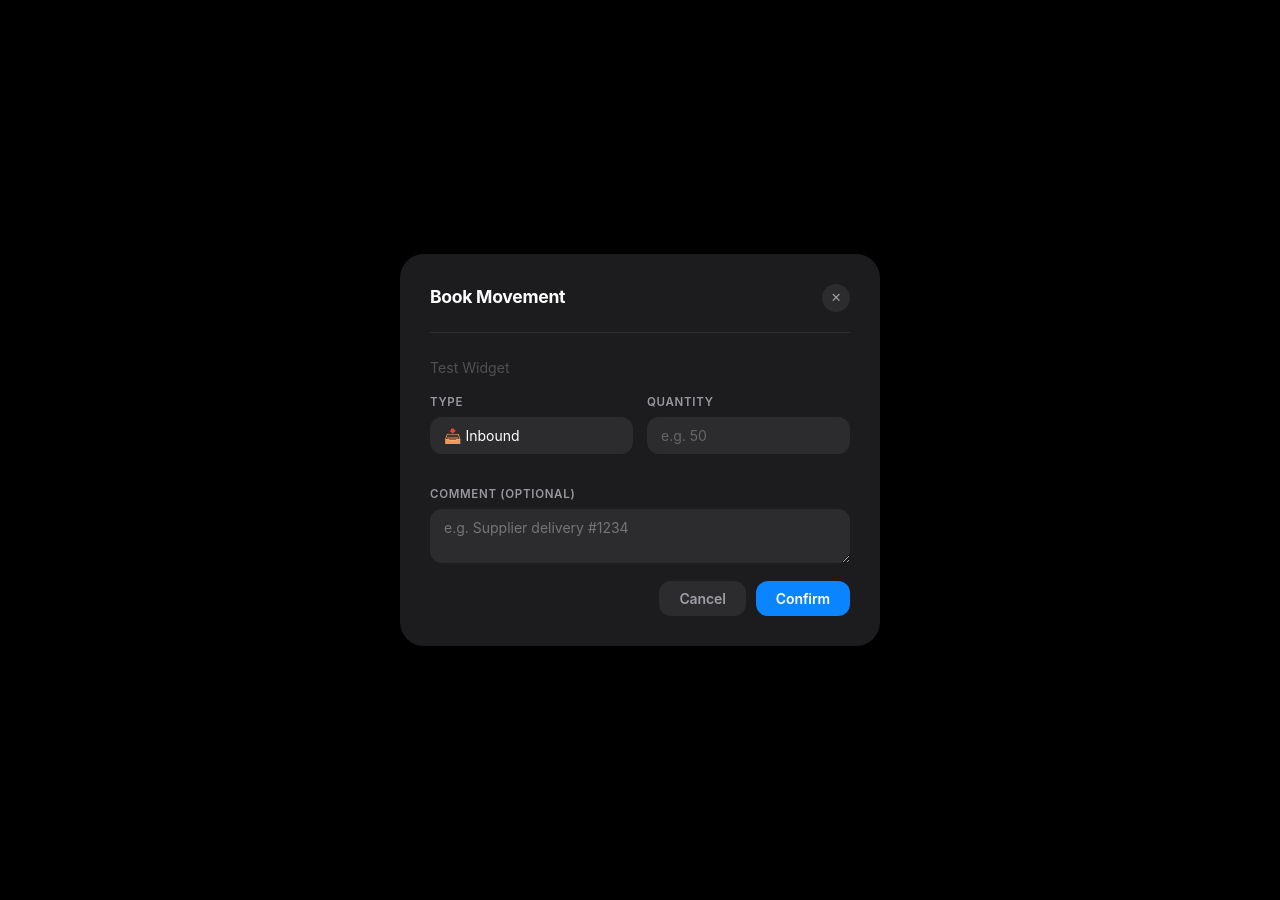
Test: StockMovementModal › shows error message on API failure
This screenshot has width=1280, height=900.
Type "999" into the number field with placeholder "e.g. 50" at (748, 436), box [647,417,850,454]
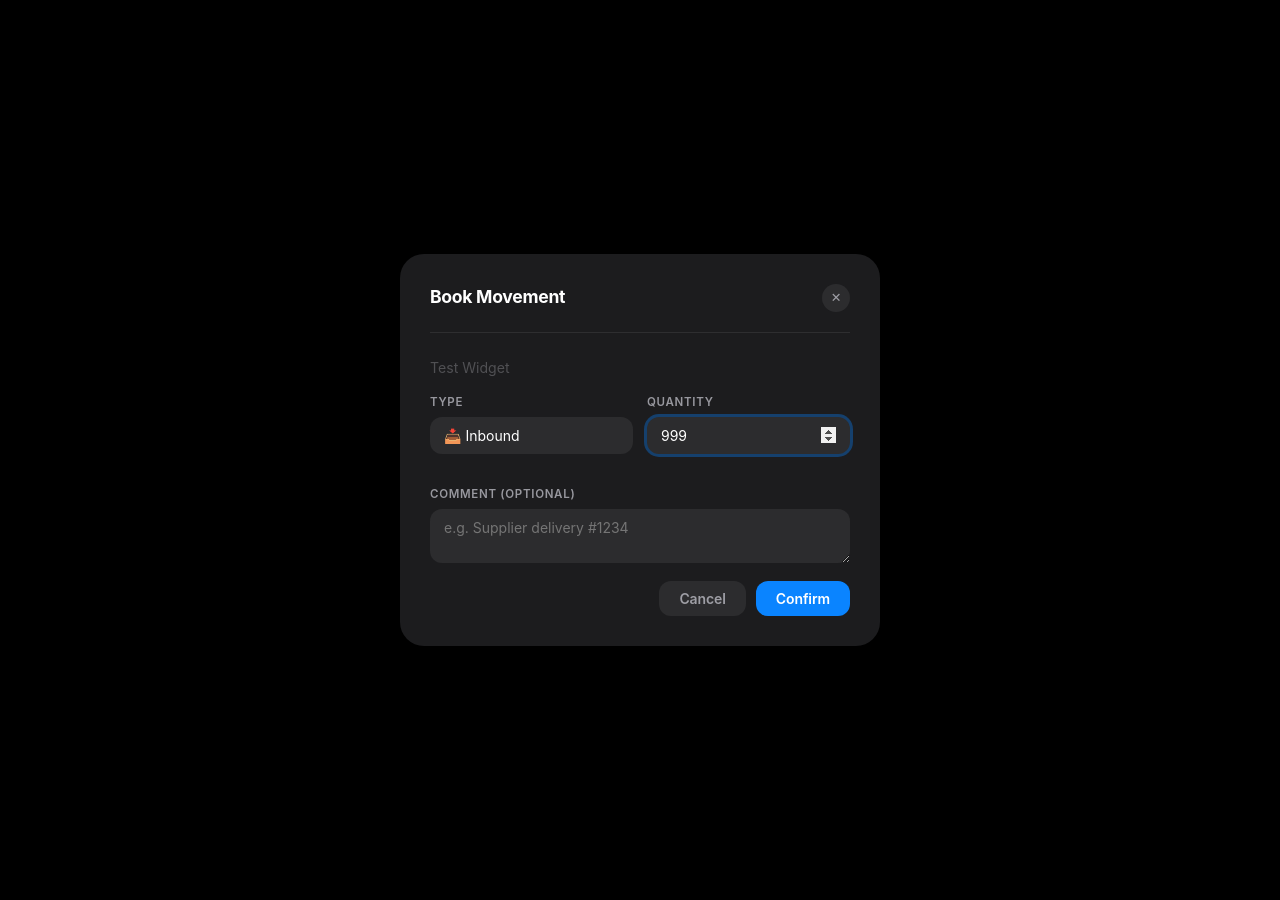
Click the button "Confirm" at (803, 599), box [756,581,850,616]
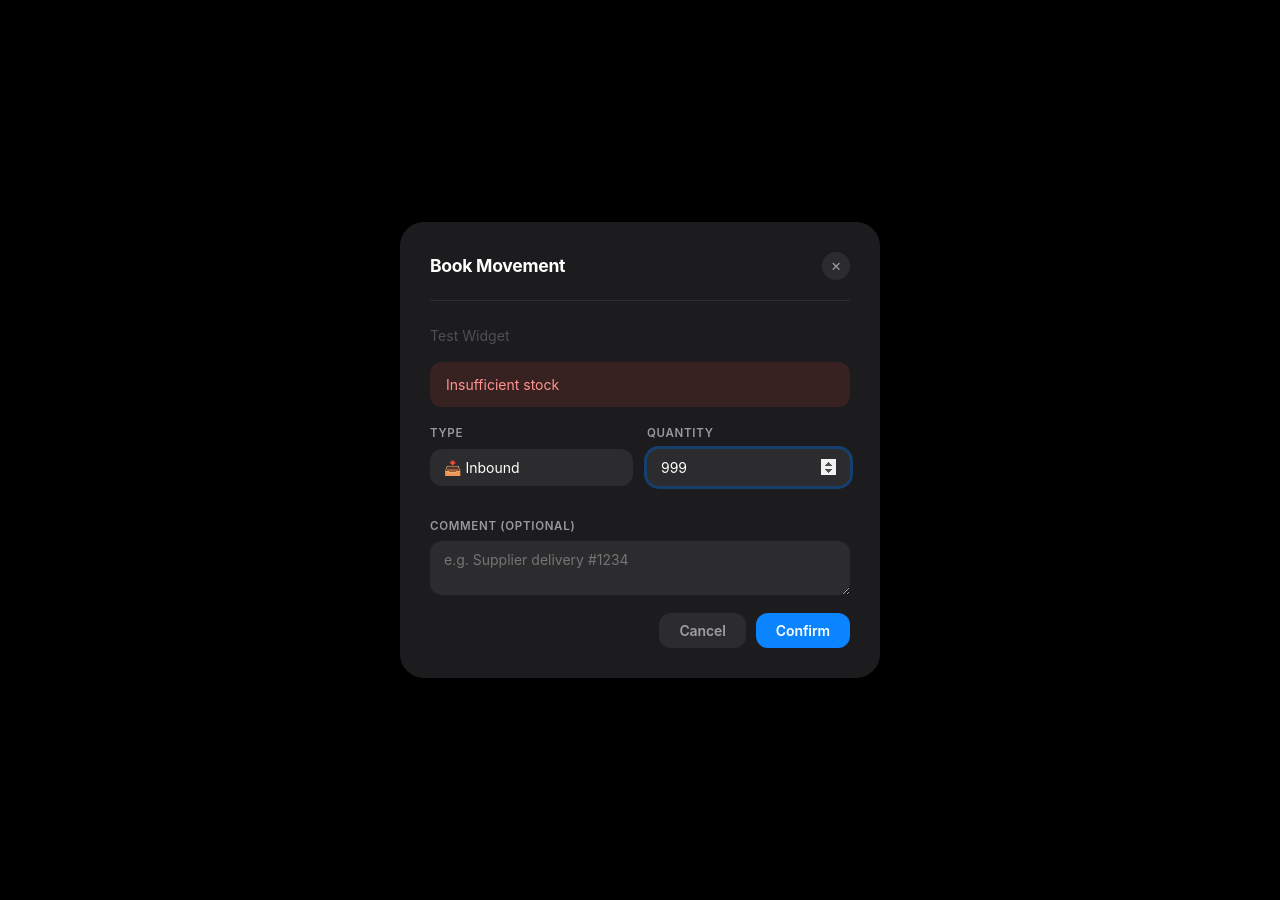
Now the text "Insufficient stock" is shown, box [430,362,850,407]
